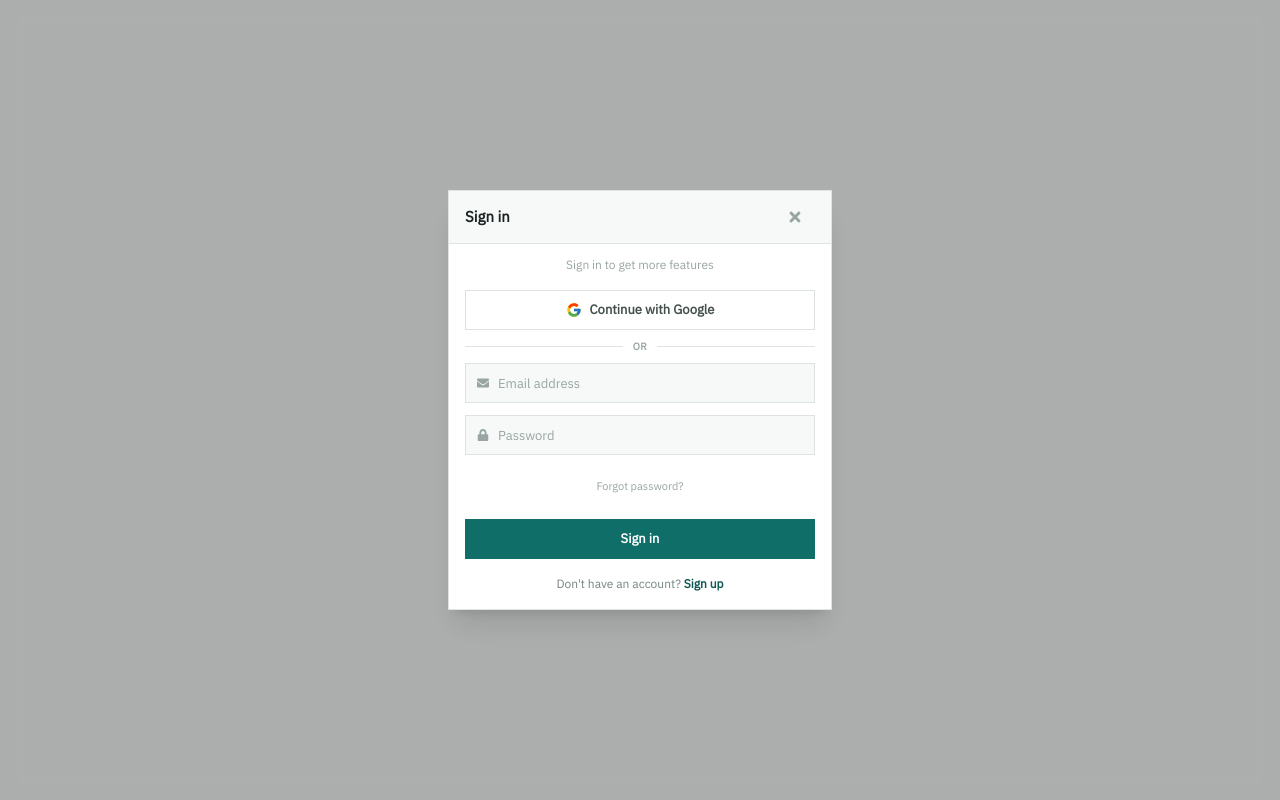
Scenario: AuthModal › switches to register form
What coordinates should you click on to do the following:
click the button "Sign up"
I would click on:
 (704, 584)
Its box is [684,575,724,593].
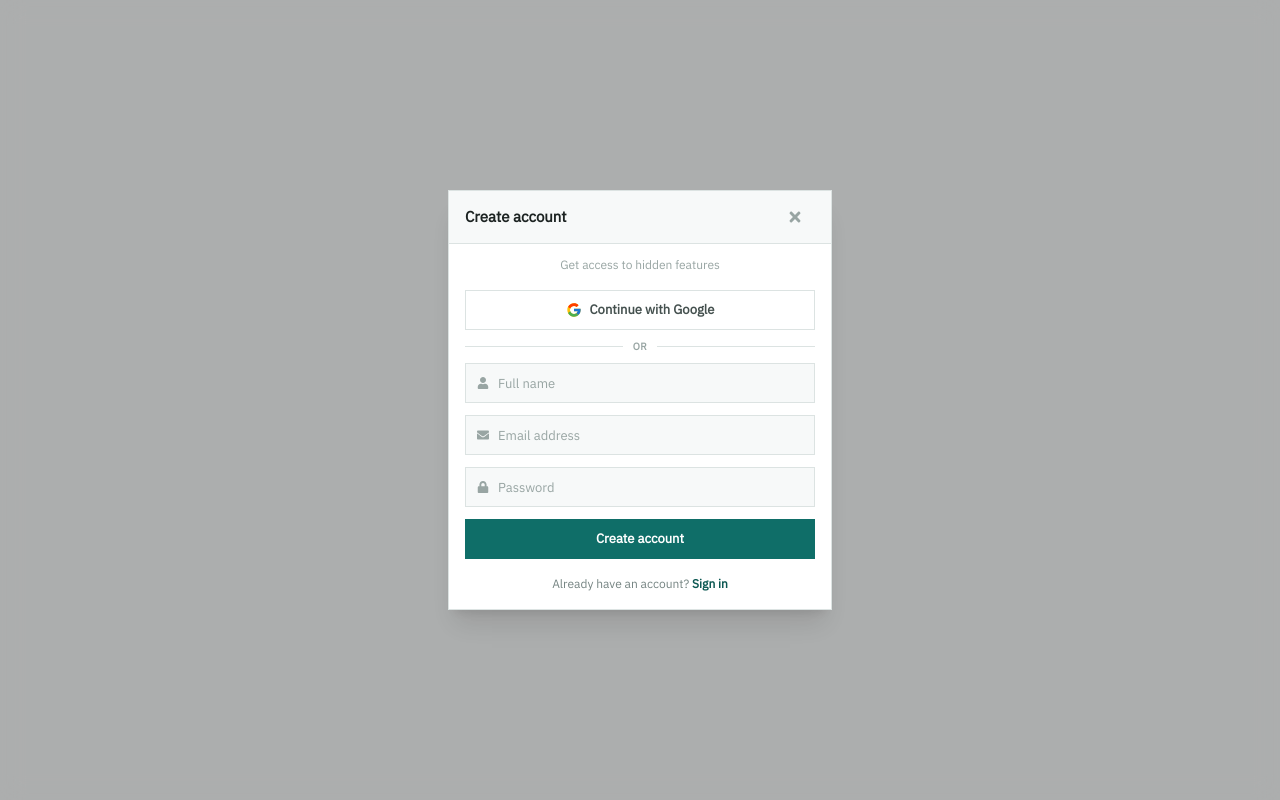
Expected: the field with placeholder "Full name" is shown, [465,363,815,403]
